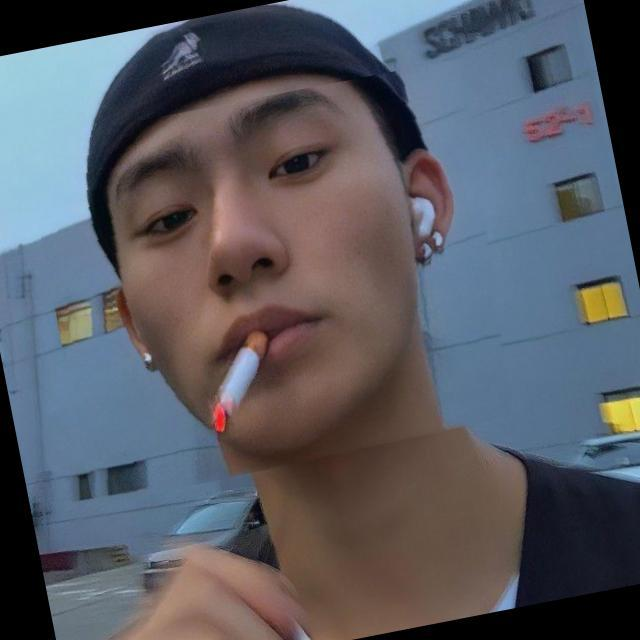cigarette: (198, 318, 319, 450)
